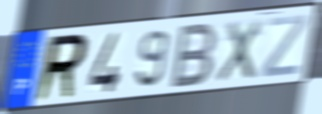4: (88, 31, 122, 95)
9: (134, 29, 170, 90)
B: (167, 20, 219, 91)
R: (32, 31, 90, 105)
X: (214, 17, 264, 85)
Z: (259, 13, 310, 79)
